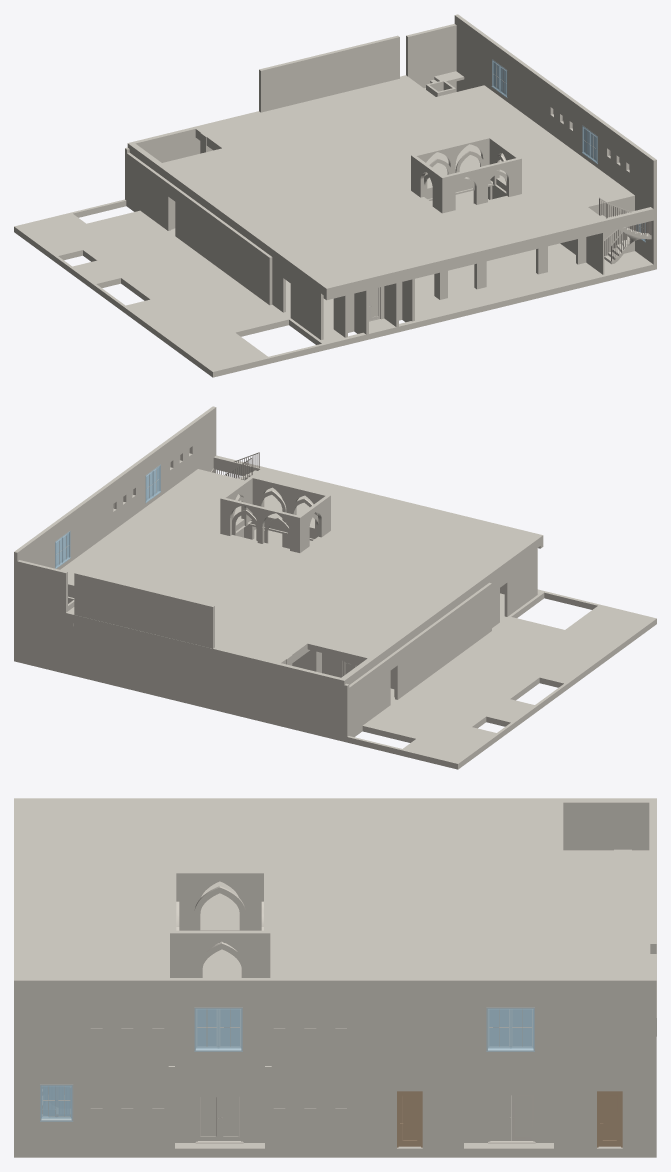
The model's file is al-jid-mosque.glb.
The picture shows the model from 3 angles, top to bottom: view 1: azimuth 30°, elevation 25°; view 2: azimuth 150°, elevation 25°; view 3: azimuth 270°, elevation 25°; orthographic projection. The views are drawn at different scales.
Parts seen in each view (by area): view 1: stone, glass, metal; view 2: stone, glass; view 3: stone, glass, wood.
Part boxes in pixels (<box>): stone: <box>14,14,656,377</box>; glass: <box>491,59,645,242</box>; metal: <box>599,198,651,261</box>; stone: <box>14,406,656,769</box>; glass: <box>55,464,160,568</box>; stone: <box>14,798,656,1157</box>; glass: <box>40,1007,534,1121</box>; wood: <box>397,1091,622,1147</box>.
Size of the model in its own units: 100 by 30.3 by 77.36.
